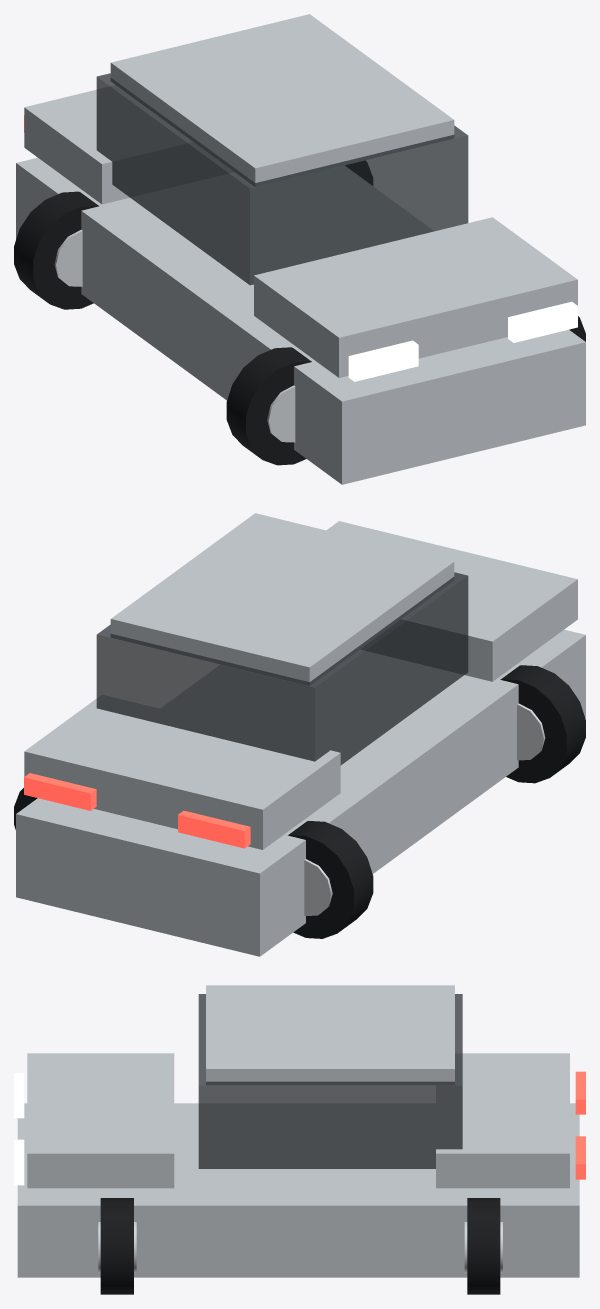
Rendered from car-idle.glb.
The picture shows the model from 3 angles, top to bottom: view 1: azimuth 30°, elevation 25°; view 2: azimuth 150°, elevation 25°; view 3: azimuth 270°, elevation 25°; orthographic projection. The views are drawn at different scales.
Parts seen in each view (by area): view 1: car-idle; view 2: car-idle; view 3: car-idle.
Boxes of the visible parts, x1,y1,x2,y2 form: car-idle: [14, 14, 585, 484]; car-idle: [14, 513, 585, 956]; car-idle: [14, 985, 585, 1294].
Size of the model in its own units: 2.65 by 1.83 by 4.48.
